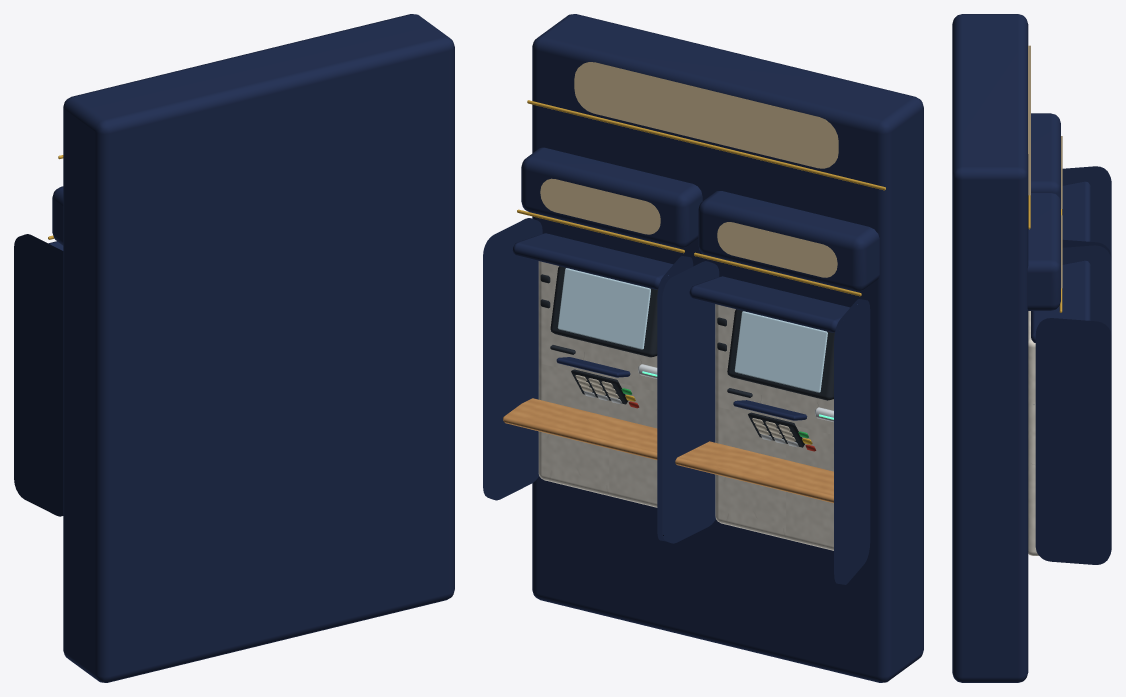
The model's file is atm_T2.fbx.
3 renders of one model, left to right at view 1: azimuth 30°, elevation 25°; view 2: azimuth 150°, elevation 25°; view 3: azimuth 270°, elevation 25°, orthographic. The views are drawn at different scales.
Parts seen in each view (by area): view 1: Body; view 2: Body; view 3: Body.
Part boxes in pixels (x1=…): Body: x1=14, y1=14, x2=454, y2=682; Body: x1=483, y1=14, x2=923, y2=682; Body: x1=952, y1=14, x2=1111, y2=682.
Bounding box in the file's own units: 1.5 × 2.25 × 0.6303.
